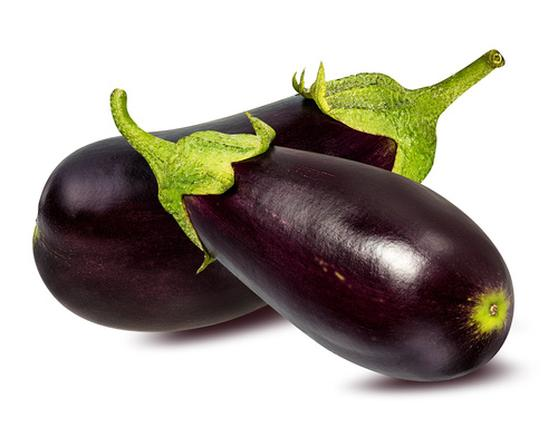eggplant: (107, 86, 516, 381)
